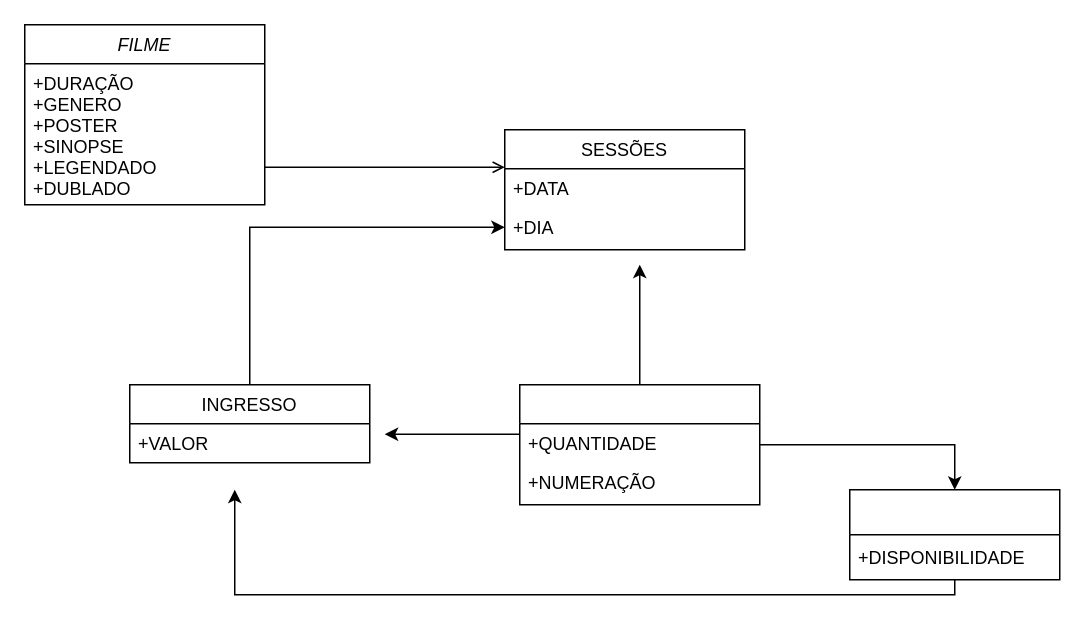
Image size: 1085x620. Some labels were removed from this diagram. The shapes that lost their labels are listed below. From the top down, each one's box as (x1, y1, x2, y2) in pixels, then its label:
(518, 383, 760, 505): SALAS
(848, 488, 1060, 580): POLTRONA
